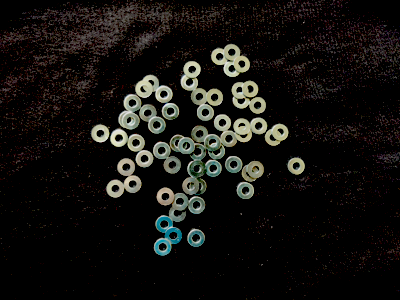circle: (110, 130, 129, 148), (119, 111, 138, 129), (154, 239, 172, 257), (165, 227, 183, 245), (156, 216, 174, 234), (157, 188, 175, 206), (164, 157, 182, 175), (205, 160, 223, 178), (204, 134, 222, 152), (178, 137, 196, 155), (170, 135, 188, 153), (136, 151, 154, 169), (92, 125, 110, 143), (214, 114, 232, 132), (233, 92, 251, 110), (197, 104, 215, 122), (162, 103, 180, 121), (122, 113, 140, 131), (124, 95, 142, 113), (156, 86, 174, 104), (136, 81, 154, 99), (124, 176, 143, 193), (188, 230, 206, 247), (170, 205, 187, 223), (171, 194, 189, 211), (189, 197, 206, 215), (237, 183, 255, 200), (242, 165, 259, 183), (247, 162, 265, 179), (288, 158, 305, 176), (107, 181, 125, 198), (118, 159, 136, 176), (190, 178, 207, 196), (190, 160, 207, 178), (128, 135, 146, 152), (236, 126, 253, 144), (250, 97, 267, 115), (207, 89, 224, 107), (181, 75, 199, 92), (184, 61, 201, 79), (149, 117, 166, 135), (224, 61, 242, 78), (265, 130, 282, 147), (272, 124, 289, 141), (183, 178, 200, 195), (188, 161, 205, 178), (226, 157, 243, 174), (209, 143, 226, 160), (190, 144, 207, 161), (154, 143, 171, 160), (192, 126, 209, 143), (221, 131, 238, 148), (234, 119, 251, 136), (251, 118, 268, 135), (232, 83, 249, 100), (242, 81, 259, 98), (191, 89, 208, 106), (140, 105, 157, 122), (212, 49, 229, 66), (234, 56, 251, 73), (143, 76, 160, 92), (224, 45, 241, 61)
